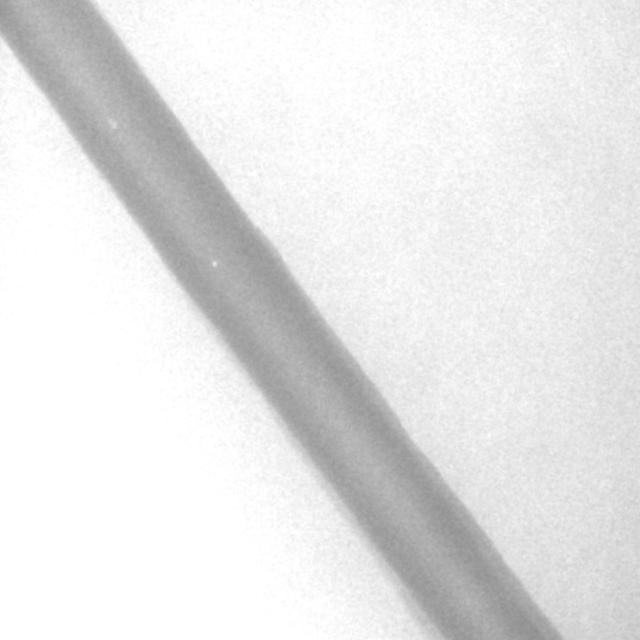air hole: (106, 118, 117, 132), (210, 259, 218, 270)
